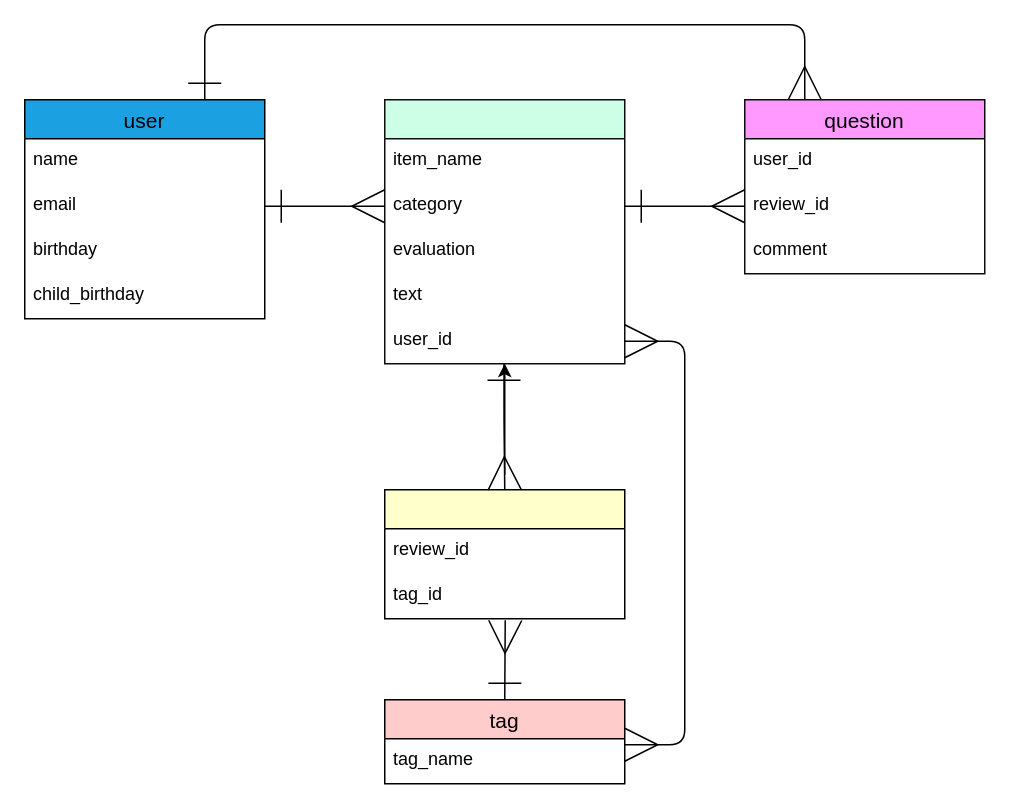
The diagram is 1010 pixels wide and 809 high, and some of its shapes have lost their labels. Each missing label, with the box of its shape:
review: (383, 98, 625, 364)
review_tag: (383, 488, 625, 619)
